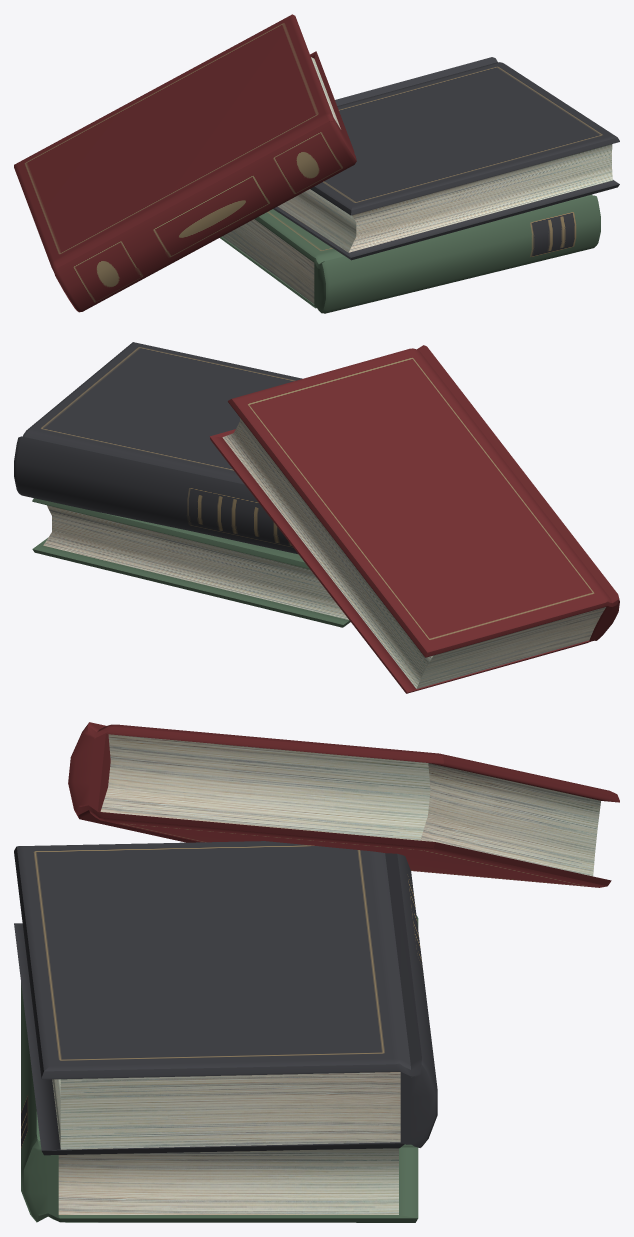
File: AP_BookPileMessy1_CS.fbx
3 renders of one model, top to bottom at view 1: azimuth 30°, elevation 25°; view 2: azimuth 150°, elevation 25°; view 3: azimuth 270°, elevation 25°, orthographic. The views are drawn at different scales.
Parts seen in each view (by area): view 1: bookred1, bookblue1, bookgreen1; view 2: bookred1, bookblue1, bookgreen1; view 3: bookblue1, bookred1, bookgreen1.
Part boxes in pixels (x1=…): bookred1: x1=14, y1=14, x2=356, y2=312; bookblue1: x1=273, y1=57, x2=619, y2=260; bookgreen1: x1=220, y1=194, x2=600, y2=313; bookred1: x1=209, y1=345, x2=619, y2=693; bookblue1: x1=14, y1=342, x2=302, y2=553; bookgreen1: x1=32, y1=498, x2=350, y2=627; bookblue1: x1=14, y1=841, x2=437, y2=1155; bookred1: x1=68, y1=722, x2=619, y2=887; bookgreen1: x1=21, y1=915, x2=418, y2=1222.
Bounding box in the file's own units: 6.84 × 2.5 × 4.27.
Materials: 3 (3 with a texture image).
